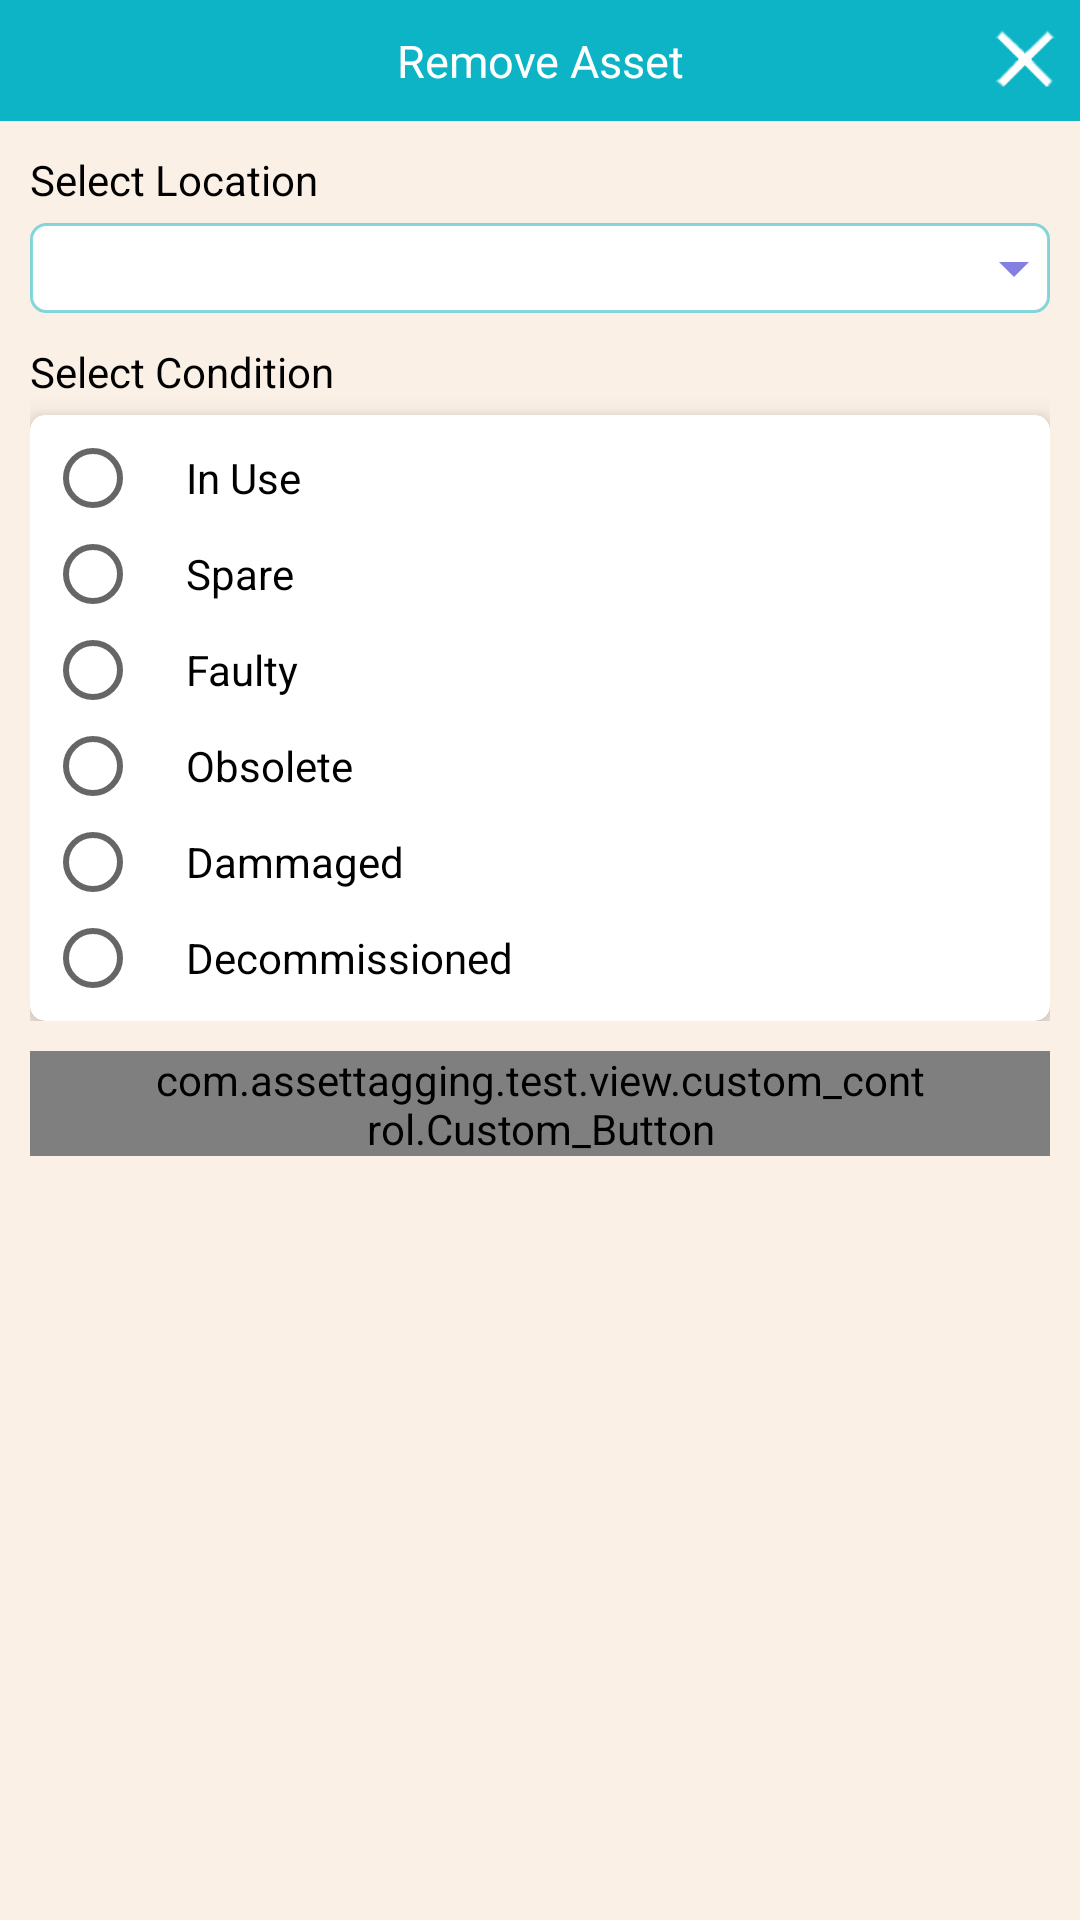

Where to tap for icons on this 1080 x 1920 app screen, as [x,y]:
close: [1025,58]
